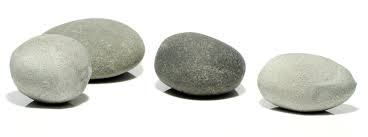stone: (151, 16, 252, 110), (255, 37, 363, 117), (29, 14, 146, 81), (7, 31, 95, 111)
